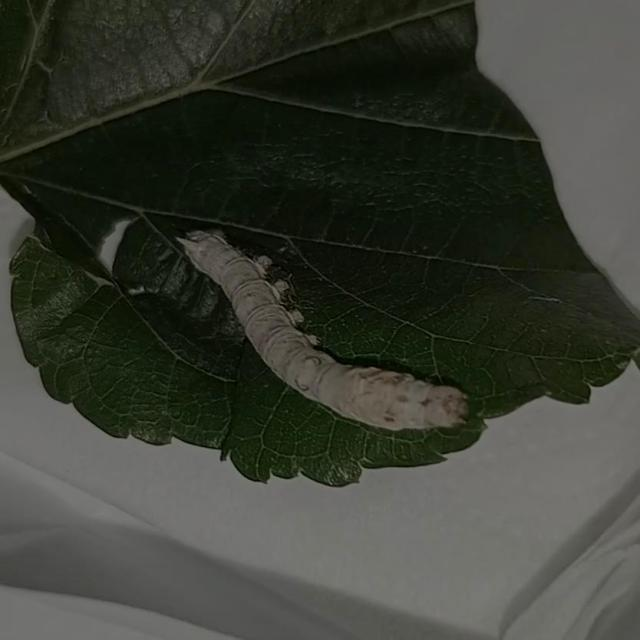Healthy: (175, 211, 488, 463)
